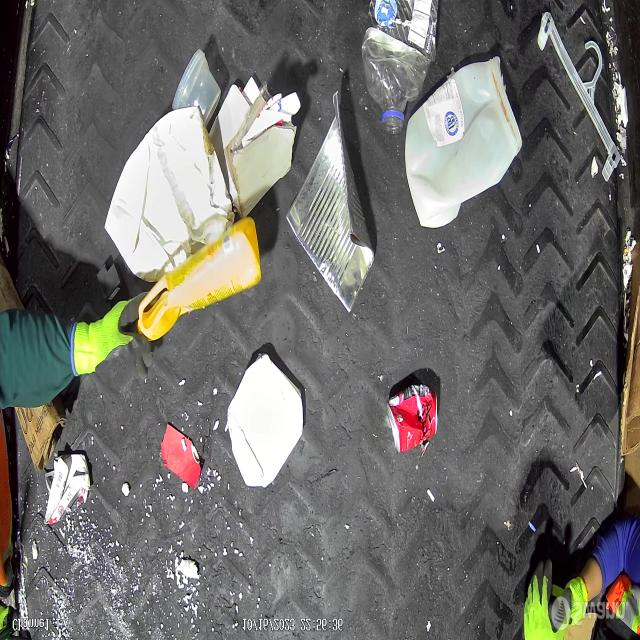can: (283, 90, 375, 312), (387, 384, 438, 455)
milk_jug: (404, 55, 522, 228)
non_white_jug: (137, 217, 262, 342)
plastic_bottle: (362, 0, 438, 134)
